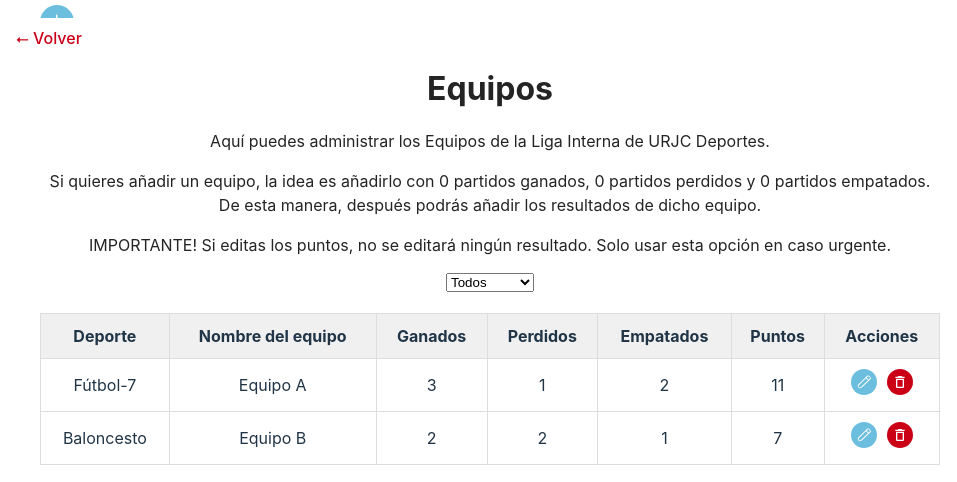
it: AdminTeams Component › filters teams by sport
Select "Fútbol-7" in the dropdown: (490, 283) [446,273,534,292]
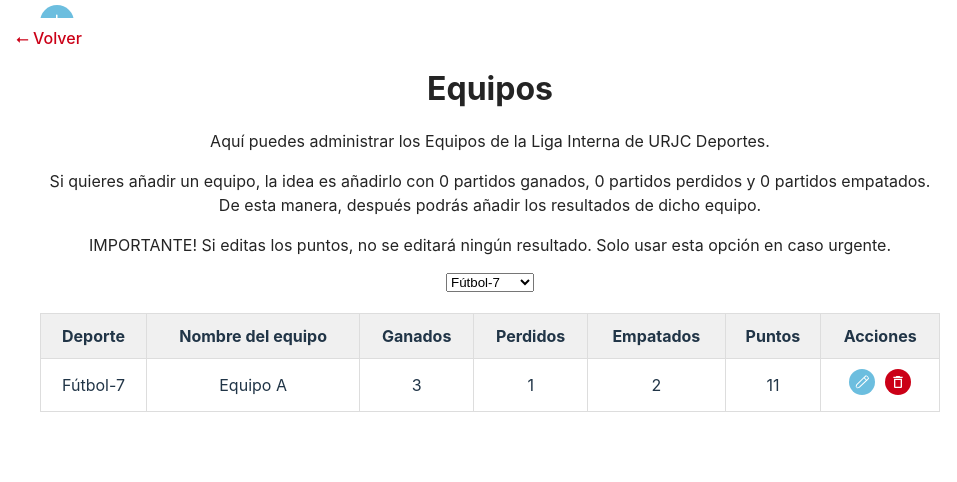
Expected: the text "Equipo A" is shown, [147,359,360,412]
Now the text "Equipo B" is gone
